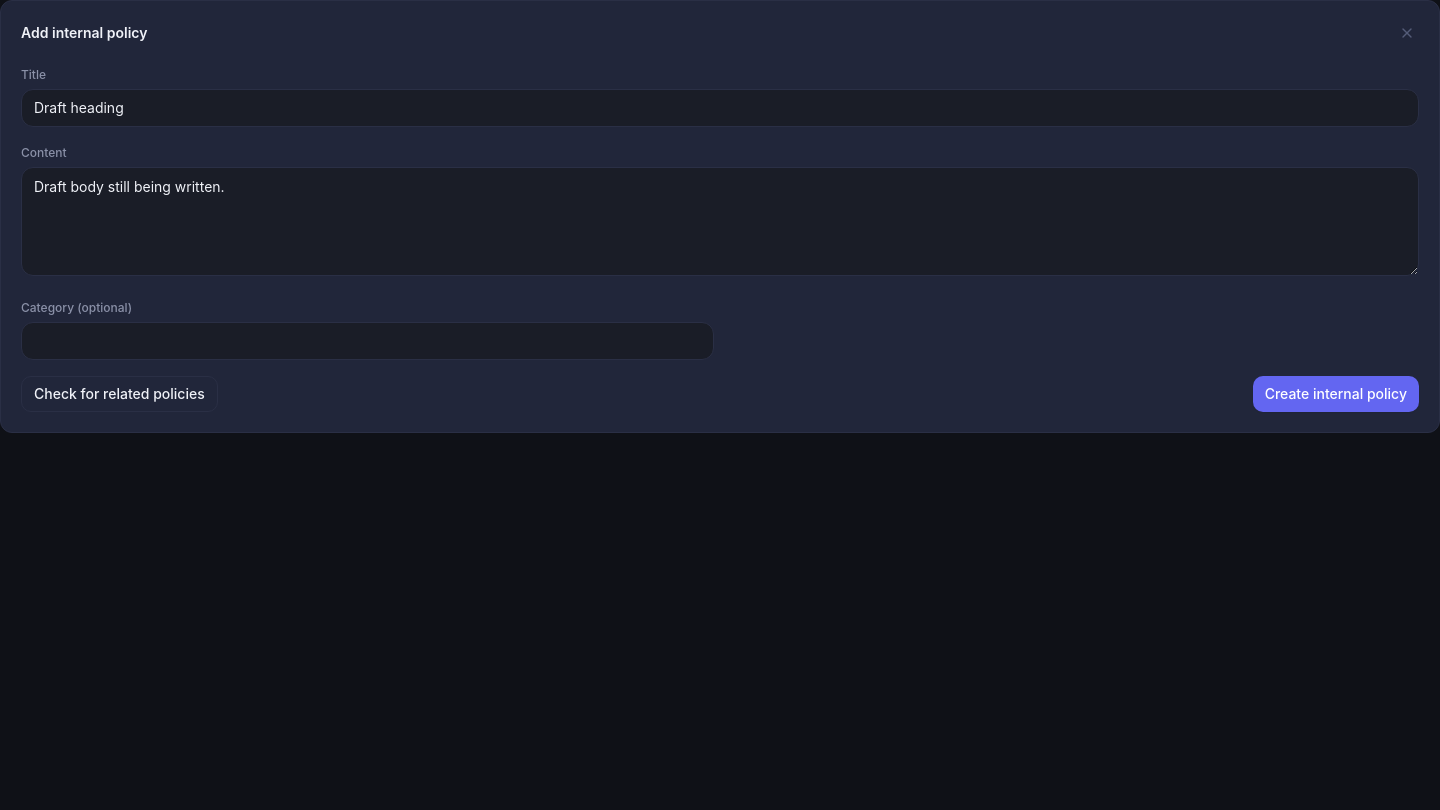
AddPolicyPanel — similar-policy preview preserves source newlines › renders the preview with white-space: pre-wrap
The width and height of the screenshot is (1440, 810).
Click the button "Check for related policies": (119, 394) [21, 376, 218, 412]
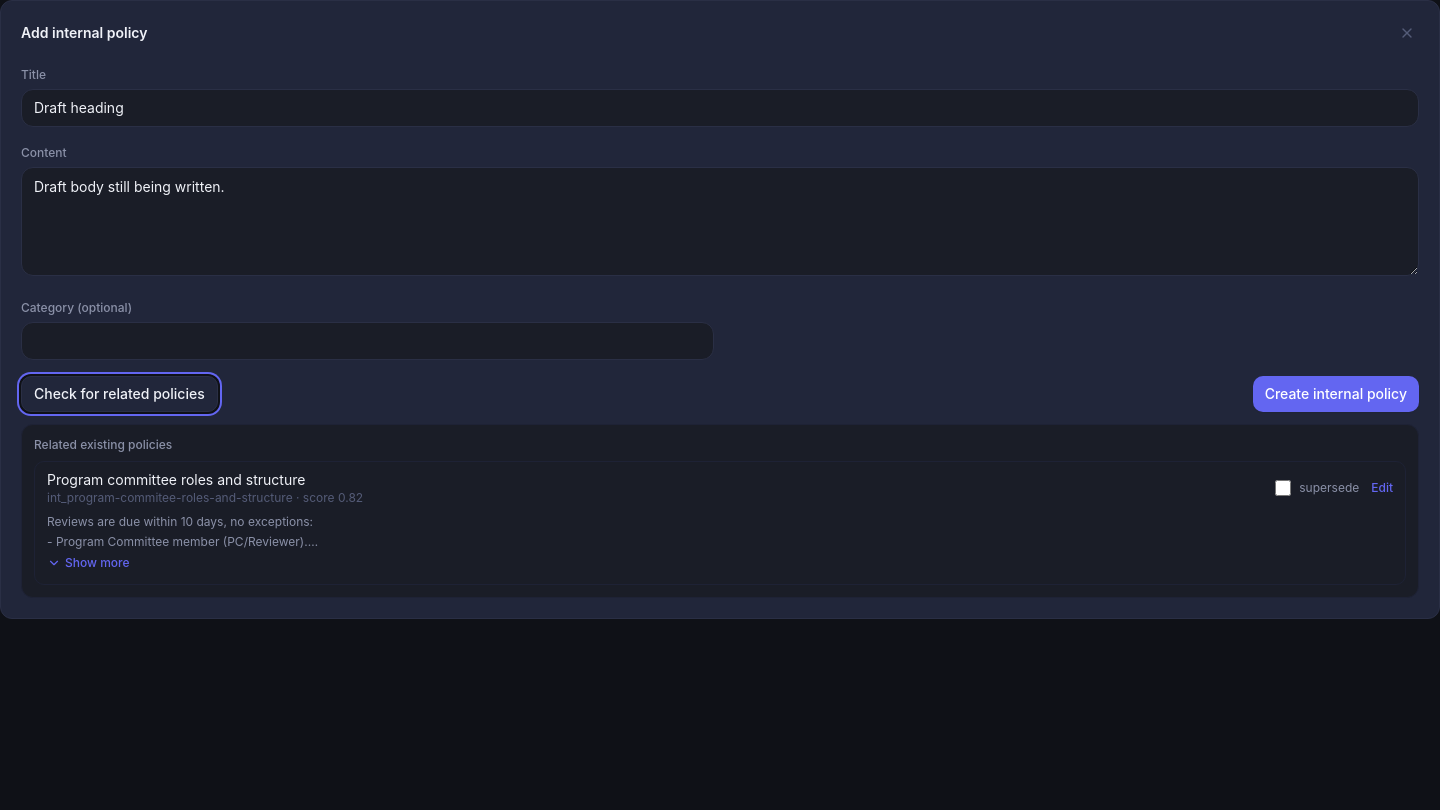
Expected: the text "Related existing policies" is shown, [34, 437, 172, 453]
